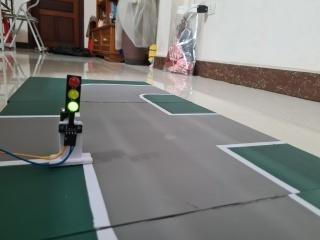green: (57, 66, 92, 127)
